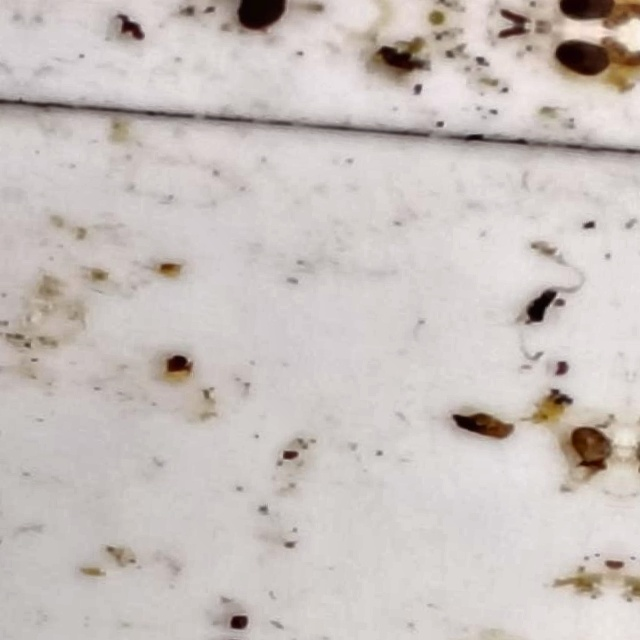varroa: (552, 37, 613, 81)
